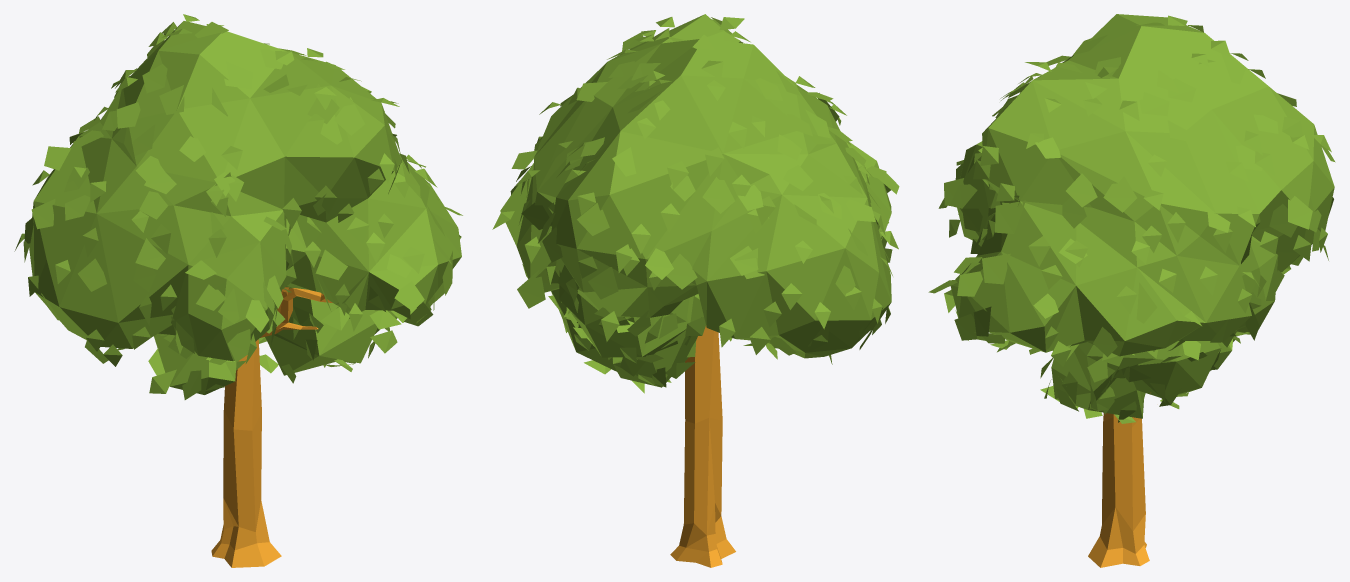
Rendered from SM_Tree_Apple_Mature_B.fbx.
3 views of the same model, side by side, from view 1: azimuth 30°, elevation 25°; view 2: azimuth 150°, elevation 25°; view 3: azimuth 270°, elevation 25° (orthographic).
Visible parts, largest first — view 1: tree-apple-mature-b; view 2: tree-apple-mature-b; view 3: tree-apple-mature-b.
Boxes of the visible parts, x1=… form: tree-apple-mature-b: x1=14, y1=14, x2=462, y2=567; tree-apple-mature-b: x1=492, y1=14, x2=899, y2=567; tree-apple-mature-b: x1=928, y1=14, x2=1335, y2=567.
Bounding box in the file's own units: 4.31 × 5.64 × 3.97.
